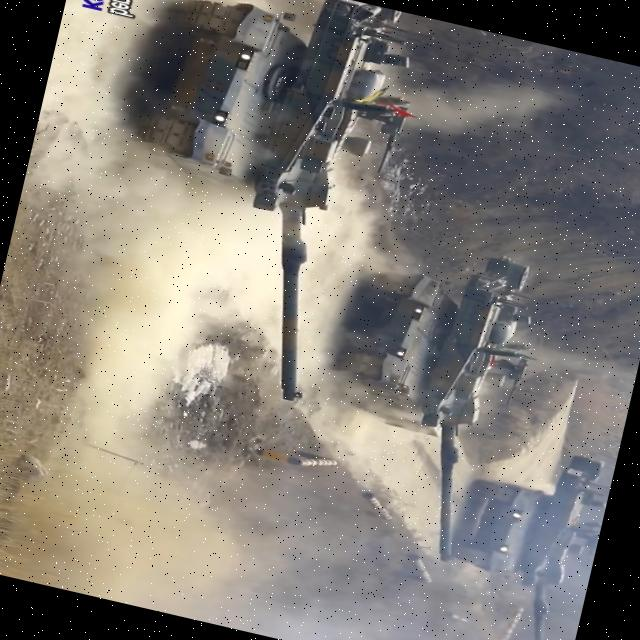korea tank: (71, 0, 437, 415)
